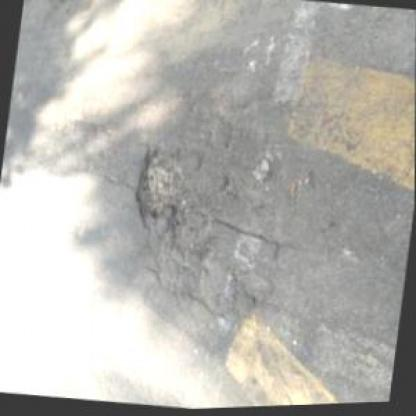pothole: (130, 137, 193, 232), (165, 196, 219, 260), (230, 264, 282, 310)
